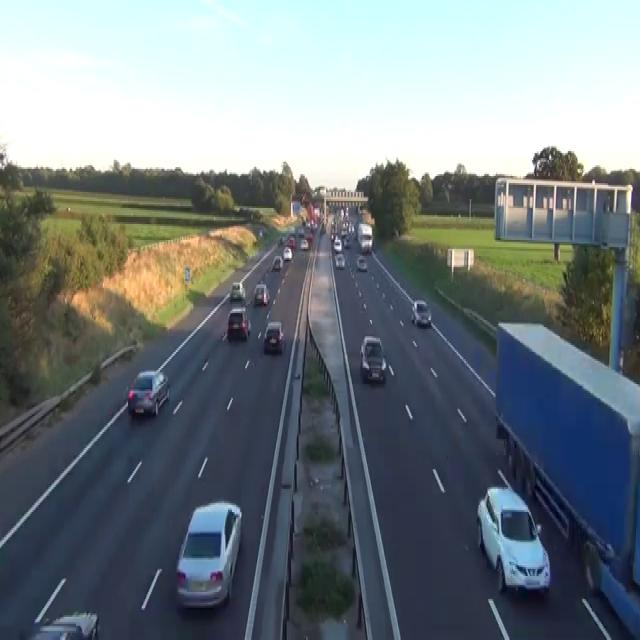Car: (476, 486, 550, 596), (175, 500, 242, 610), (21, 578, 99, 638), (25, 610, 99, 638), (127, 370, 169, 416), (359, 334, 386, 382), (24, 624, 84, 638), (227, 306, 251, 340), (263, 320, 285, 352), (411, 299, 431, 327), (253, 282, 270, 306), (229, 281, 245, 300), (360, 235, 372, 252), (356, 254, 367, 270), (272, 254, 283, 270), (335, 252, 345, 268), (282, 246, 292, 260), (333, 238, 341, 252), (288, 235, 296, 249), (300, 238, 308, 249), (343, 237, 350, 247), (297, 226, 304, 236), (301, 194, 308, 204), (340, 226, 347, 236), (304, 230, 312, 238), (278, 235, 284, 245), (330, 231, 334, 242), (259, 228, 262, 238)
Truck: (494, 320, 639, 638)
